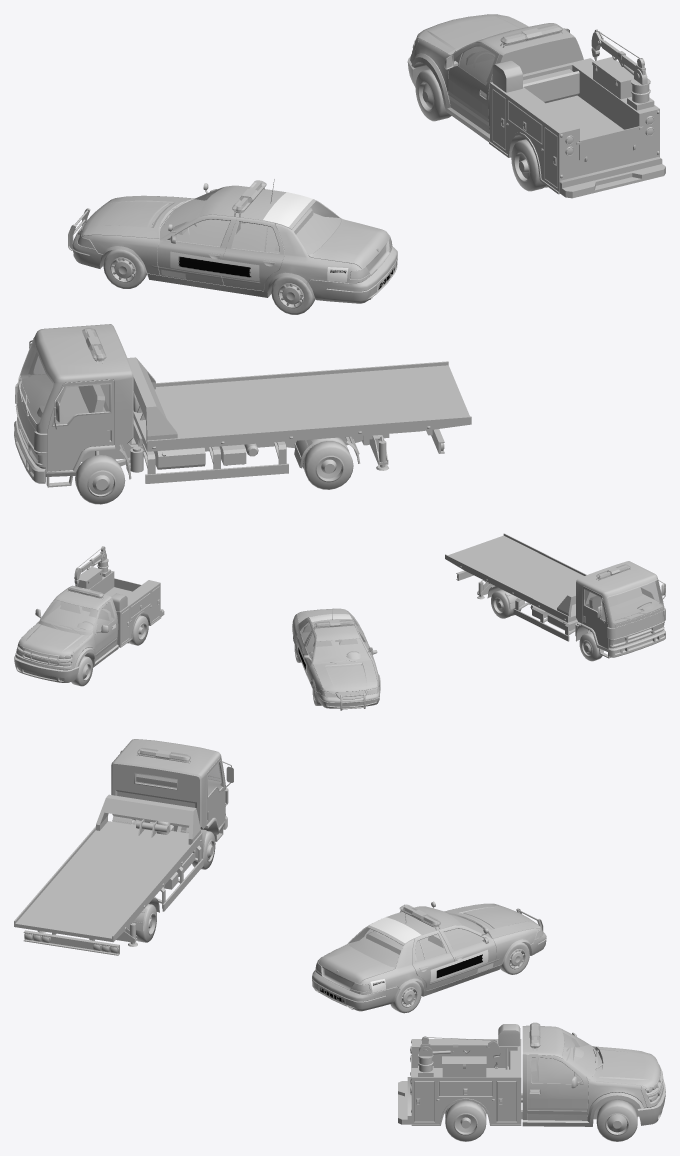
File: Vehicles.fbx
3 renders of one model, top to bottom at view 1: azimuth 30°, elevation 25°; view 2: azimuth 150°, elevation 25°; view 3: azimuth 270°, elevation 25°, orthographic. The views are drawn at different scales.
Parts seen in each view (by area): view 1: towtruck, rdservtruck, police_sedan; view 2: towtruck, rdservtruck, police_sedan; view 3: towtruck, rdservtruck, police_sedan.
Boxes of the visible parts, bbox=[...] form: towtruck: bbox=[14, 324, 471, 504]; rdservtruck: bbox=[407, 14, 665, 198]; police_sedan: bbox=[68, 179, 397, 314]; towtruck: bbox=[445, 533, 665, 661]; rdservtruck: bbox=[14, 546, 164, 686]; police_sedan: bbox=[292, 608, 380, 710]; towtruck: bbox=[14, 739, 233, 955]; rdservtruck: bbox=[398, 1022, 665, 1141]; police_sedan: bbox=[312, 901, 546, 1013].
Size of the model in its own units: 1519 by 252 by 1342.
